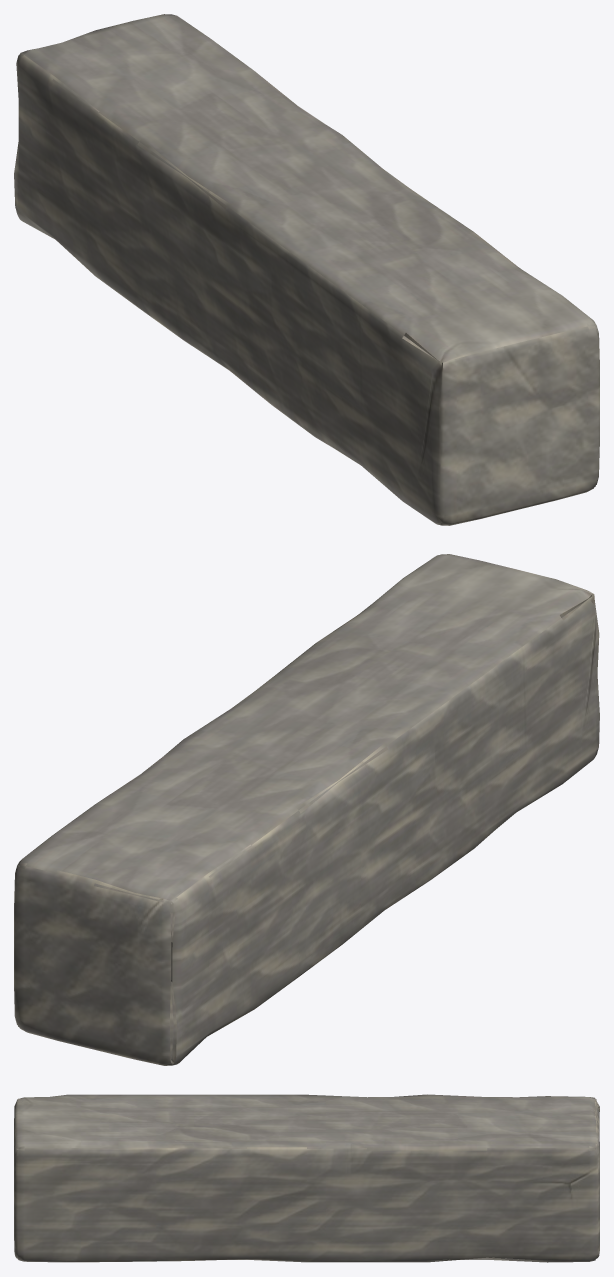
The model's file is stone_rod.glb.
3 views of the same model, one above another, from view 1: azimuth 30°, elevation 25°; view 2: azimuth 150°, elevation 25°; view 3: azimuth 270°, elevation 25° (orthographic). The views are drawn at different scales.
Visible parts, largest first — view 1: StoneRod; view 2: StoneRod; view 3: StoneRod.
Part boxes in pixels (box(x1,y1,x2,y2)): StoneRod: box(14, 14, 599, 525); StoneRod: box(14, 554, 599, 1065); StoneRod: box(14, 1094, 599, 1262).
Size of the model in its own units: 0.2156 by 0.2157 by 0.9754.
1 material, 1 textured.
